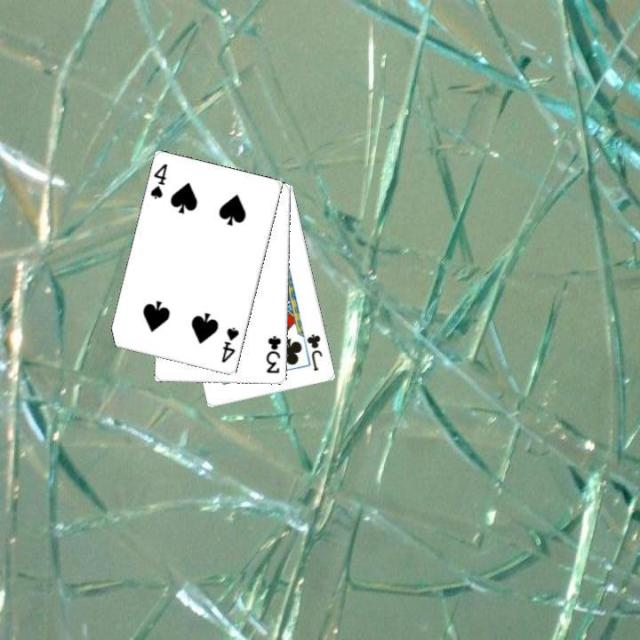3C: (262, 333, 284, 375)
4S: (146, 160, 170, 201), (218, 324, 241, 364)
JC: (303, 330, 325, 373)
